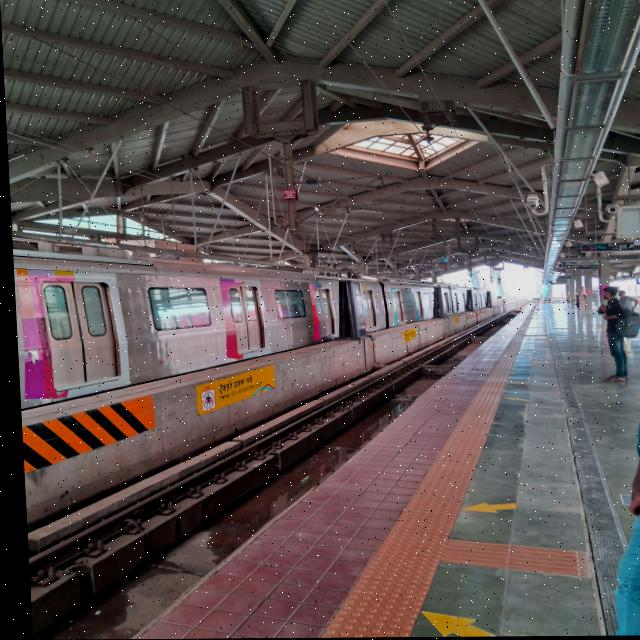train: (9, 222, 472, 403)
